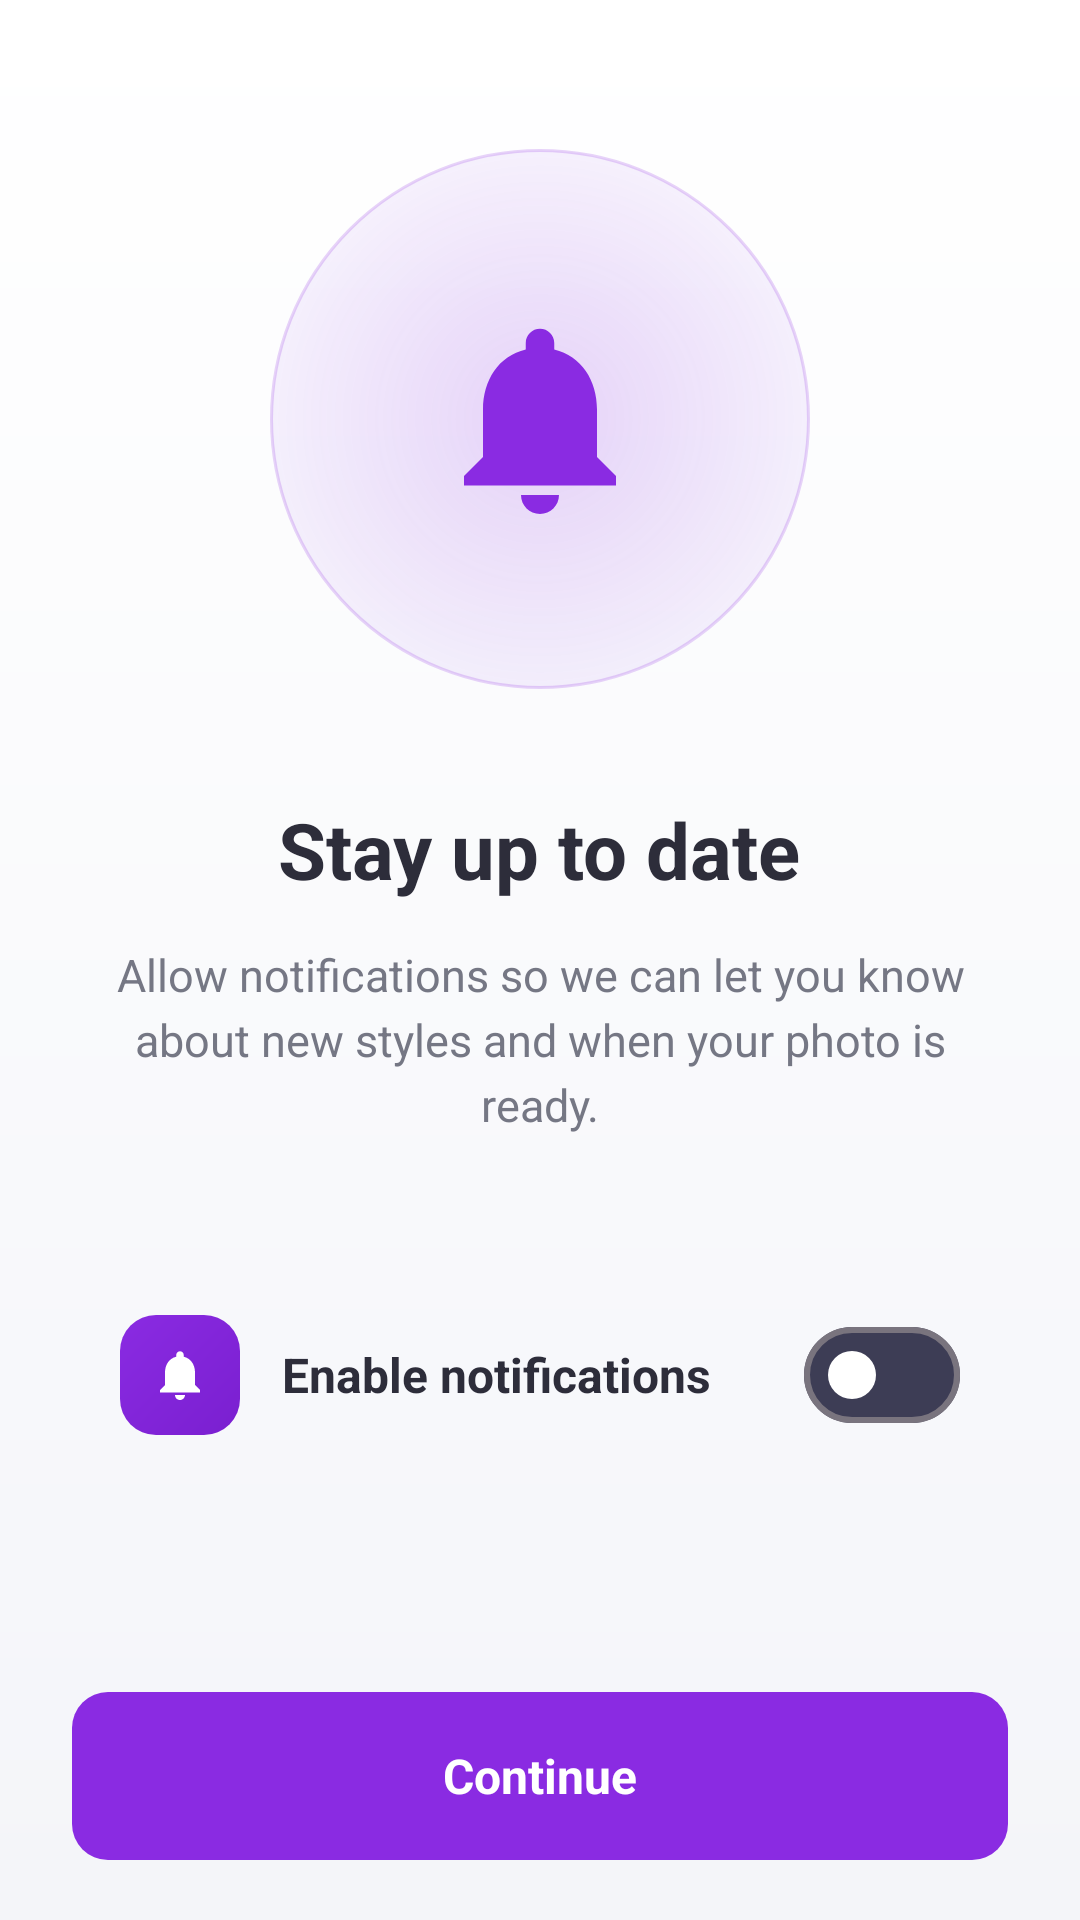

Locate icon controls on the screen. Image size 1080 × 1920, boxes as [left=x1, top=y1, right=x2, bottom=y2].
bell: [left=464, top=328, right=616, bottom=514], [left=160, top=1351, right=200, bottom=1400]
